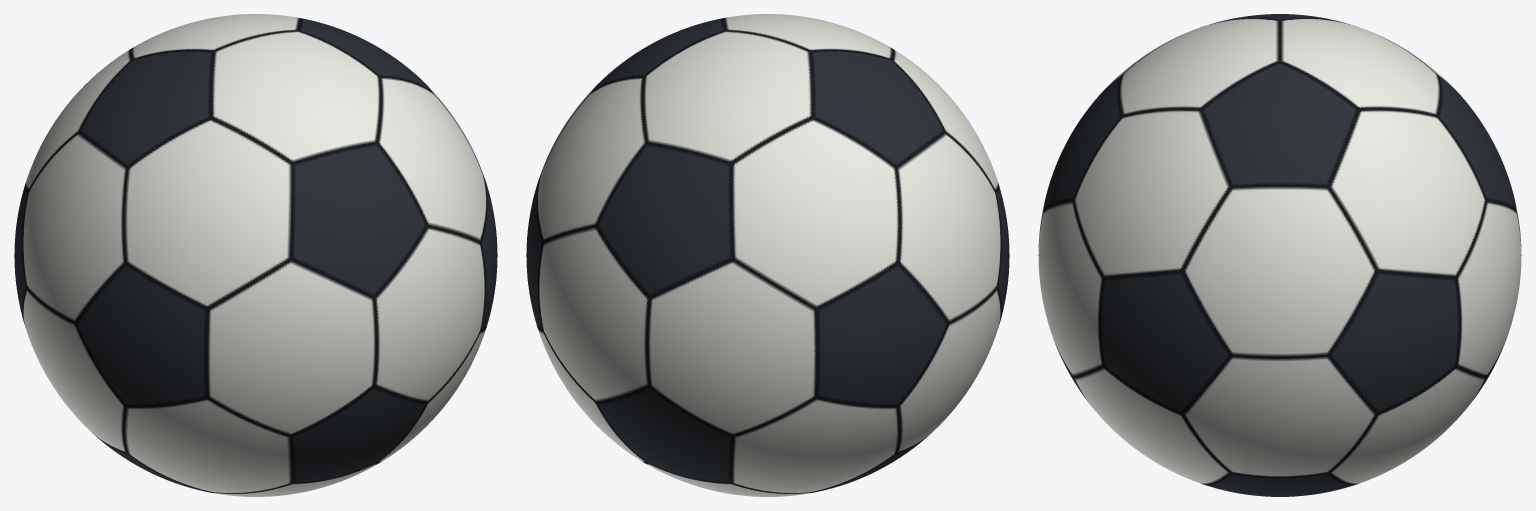
File: ball.glb
3 views of the same model, side by side, from view 1: azimuth 30°, elevation 25°; view 2: azimuth 150°, elevation 25°; view 3: azimuth 270°, elevation 25° (orthographic).
Parts seen in each view (by area): view 1: Ballon_UV; view 2: Ballon_UV; view 3: Ballon_UV.
Part boxes in pixels (box(x1,y1,x2,y2)): Ballon_UV: box(14, 14, 497, 496); Ballon_UV: box(526, 14, 1009, 496); Ballon_UV: box(1038, 14, 1521, 496).
Bounding box in the file's own units: 2 × 2 × 2.
1 material, 1 textured.
